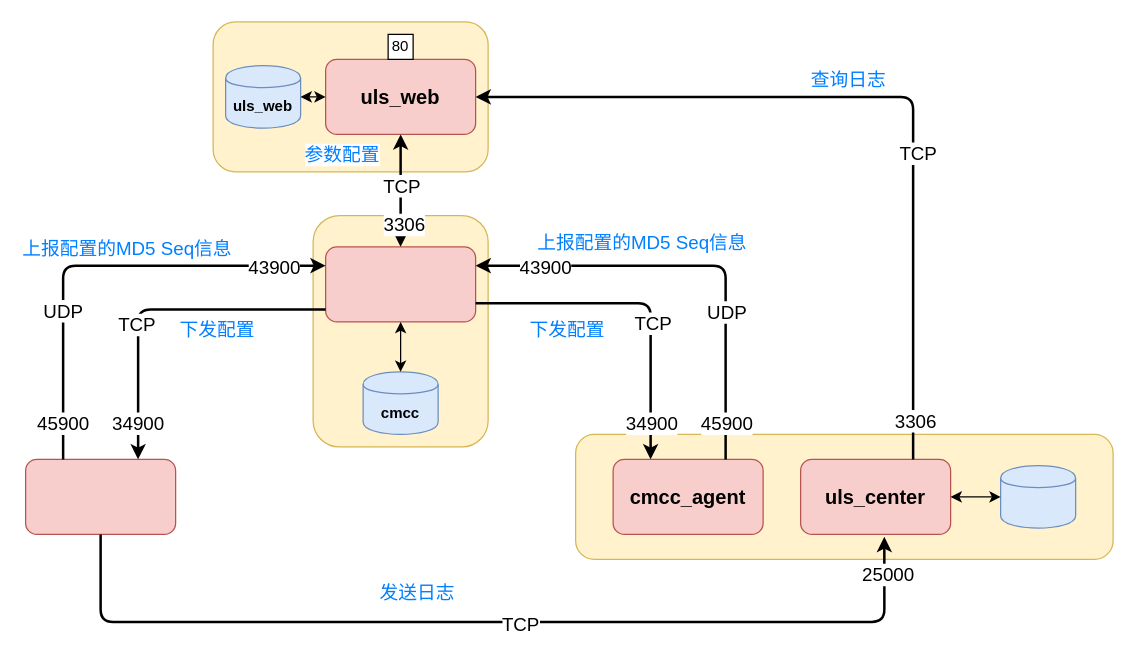
Image size: 1135x656. Some labels were removed from this diagram. Here are the shapes that lost their labels. From the top down, the centre of each, then its label:
At (400,284): "cmcc_server".
At (100,496): "logsys_agent".
At (1037,496): "logsys_db".
